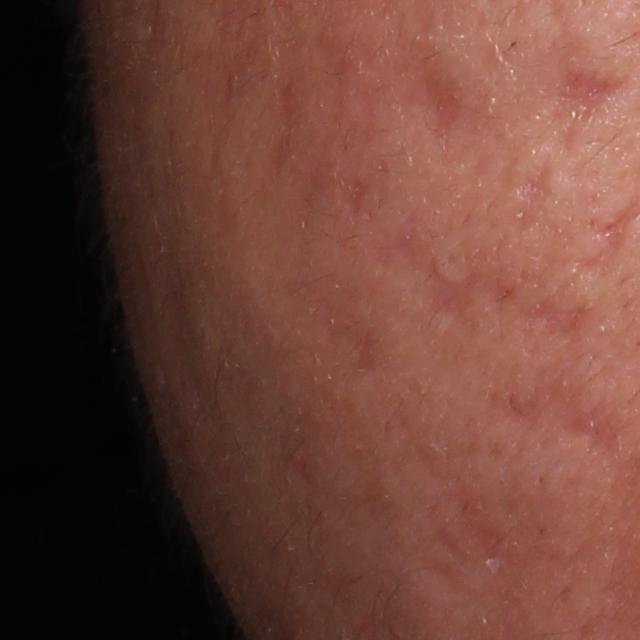atrophic_scar: (417, 471, 569, 630), (234, 51, 371, 208), (386, 259, 584, 355), (267, 273, 398, 378), (495, 364, 636, 454), (395, 46, 463, 155), (547, 70, 613, 120), (514, 159, 546, 223)
